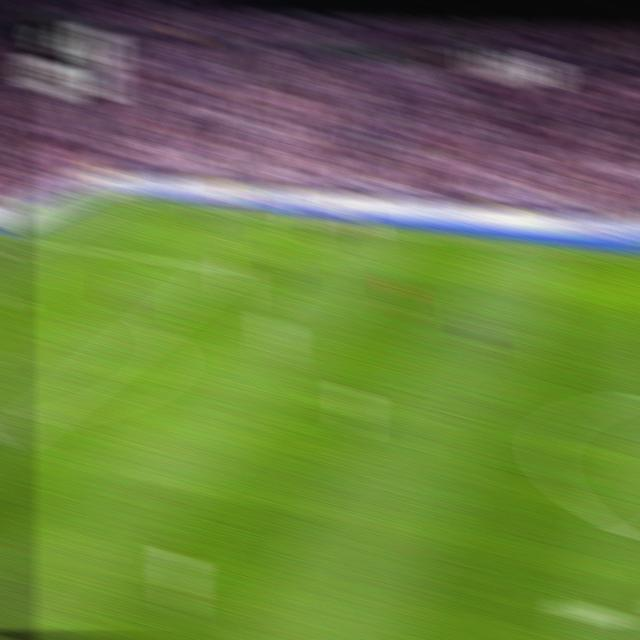bigarea_top_inner: (211, 258, 237, 279)
bigarea_top_outter: (17, 232, 42, 249)
bottom_arc_area_intersection: (23, 403, 50, 429)
corner: (98, 190, 126, 206)
smallarea_top_inner: (0, 284, 24, 306)
top_arc_area_intersection: (139, 314, 165, 336)
